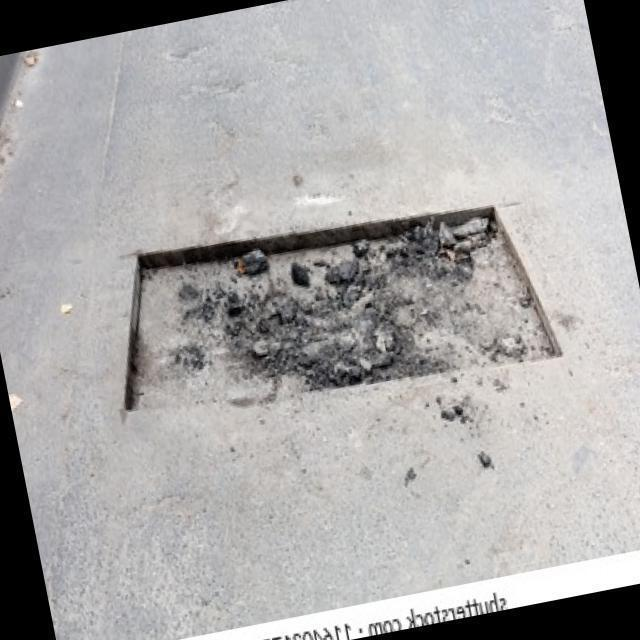pothole: (93, 172, 564, 441)
